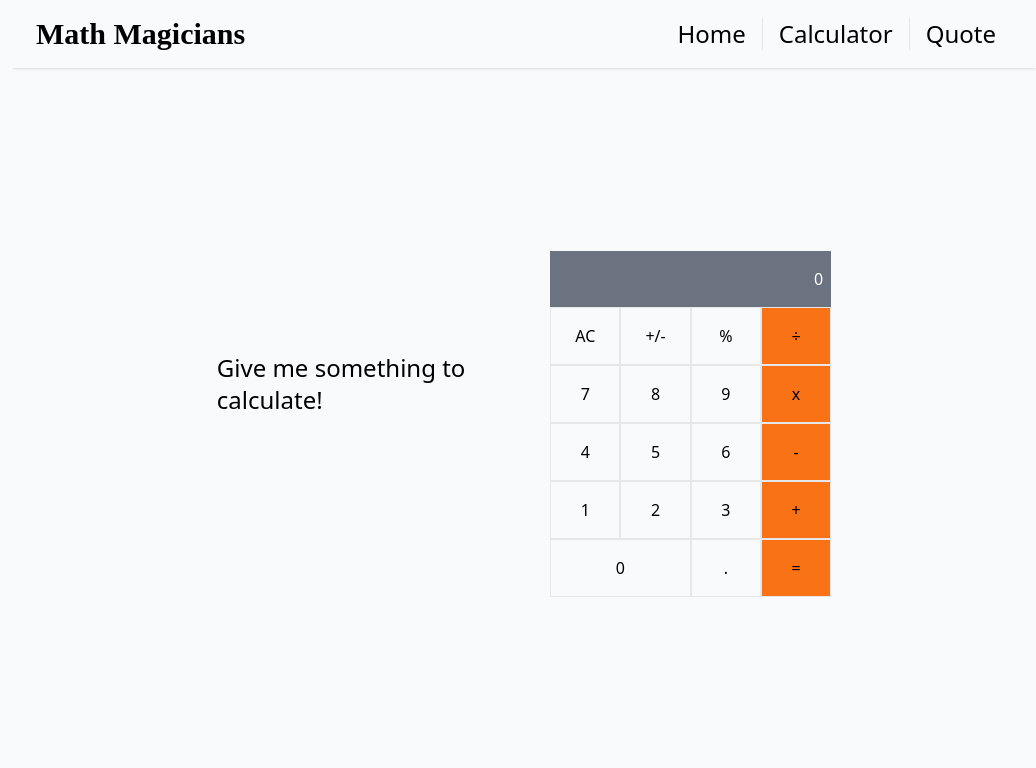
Test: Rendering Component: App › should simulate navlinks Quote click
The image size is (1036, 768).
Click the link "Quote". click: {"x": 961, "y": 34}
box: [926,17,996,50]
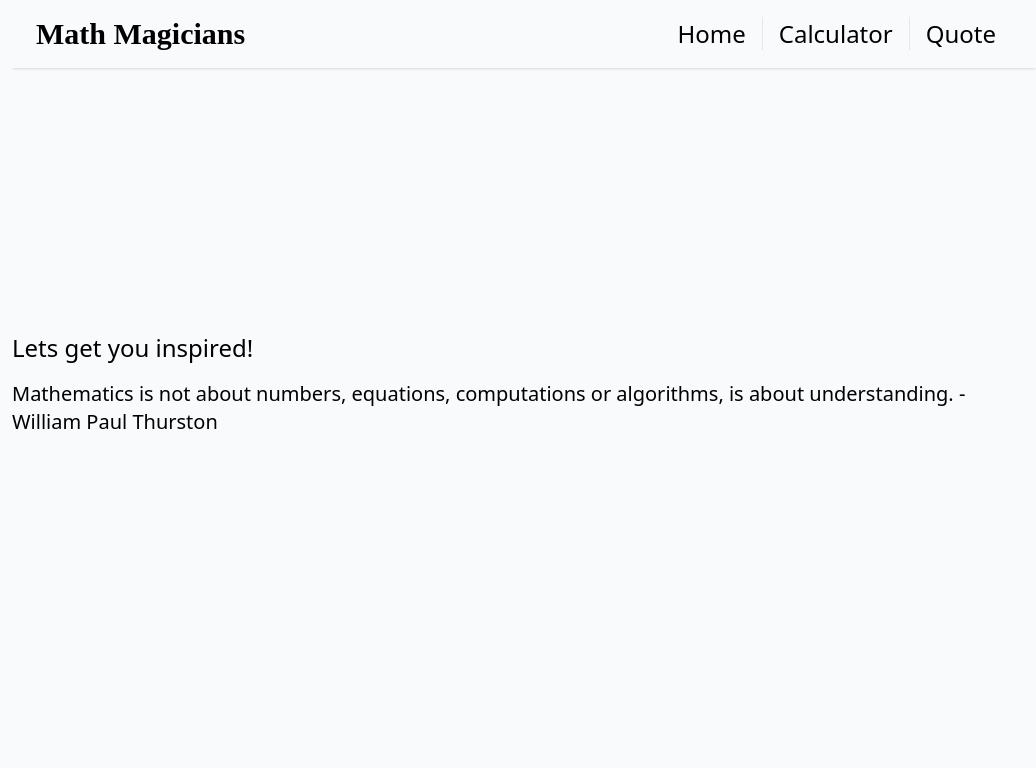
Expected: the heading "Lets get you inspired!" is shown, [12,331,253,364]
